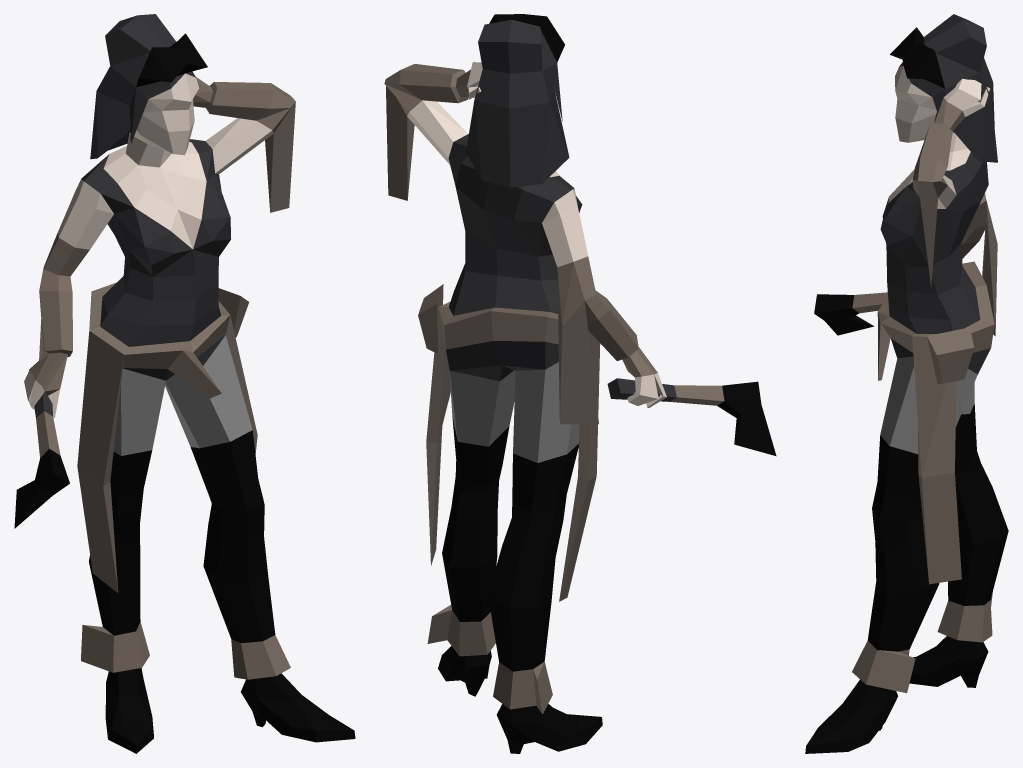
The model's file is Blondie.fbx.
3 views of the same model, side by side, from view 1: azimuth 30°, elevation 25°; view 2: azimuth 150°, elevation 25°; view 3: azimuth 270°, elevation 25° (orthographic). The views are drawn at different scales.
Parts seen in each view (by area): view 1: Blondie.obj; view 2: Blondie.obj; view 3: Blondie.obj.
Part boxes in pixels (x1,y1,x2,y2): Blondie.obj: (14,14,355,753); Blondie.obj: (384,14,776,753); Blondie.obj: (805,14,1008,753).
Size of the model in its own units: 86.32 by 177 by 48.61.
